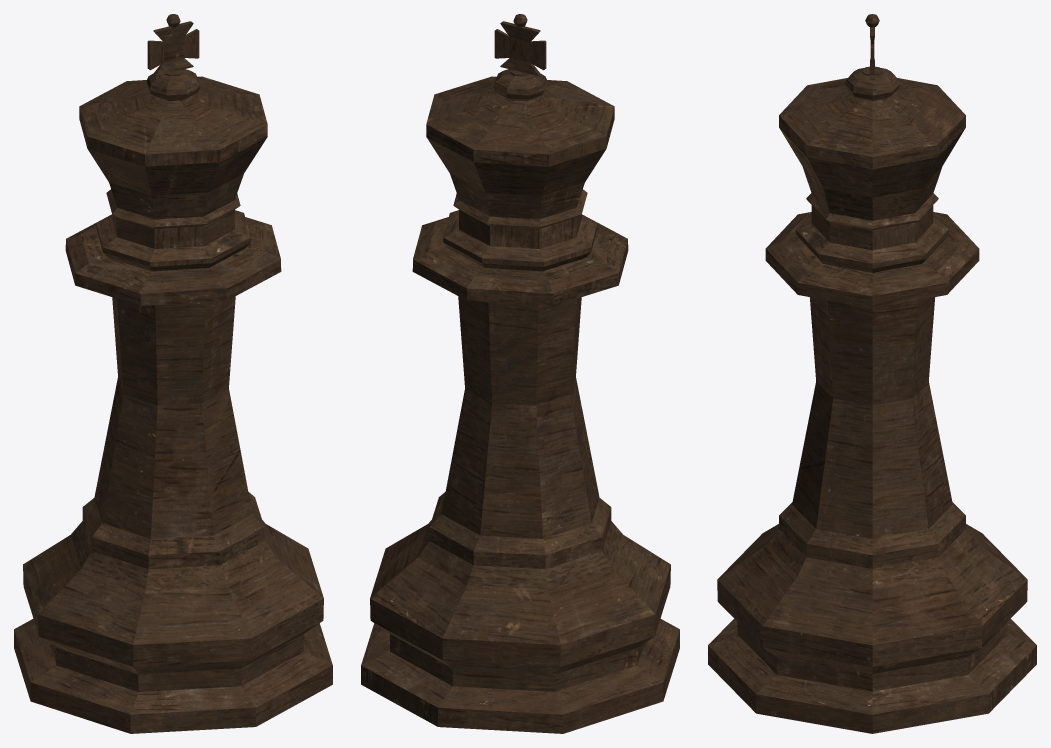
The model's file is King.fbx.
The picture shows the model from 3 angles, left to right: view 1: azimuth 30°, elevation 25°; view 2: azimuth 150°, elevation 25°; view 3: azimuth 270°, elevation 25°; orthographic projection.
Parts seen in each view (by area): view 1: King; view 2: King; view 3: King.
Part boxes in pixels (x1,y1,x2,y2): King: [14, 14, 332, 733]; King: [361, 14, 679, 733]; King: [708, 14, 1036, 733].
Bounding box in the file's own units: 90 × 90 × 200.
Materials: 1 (1 with a texture image).
